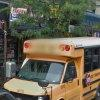Bus: (17, 33, 100, 100)
